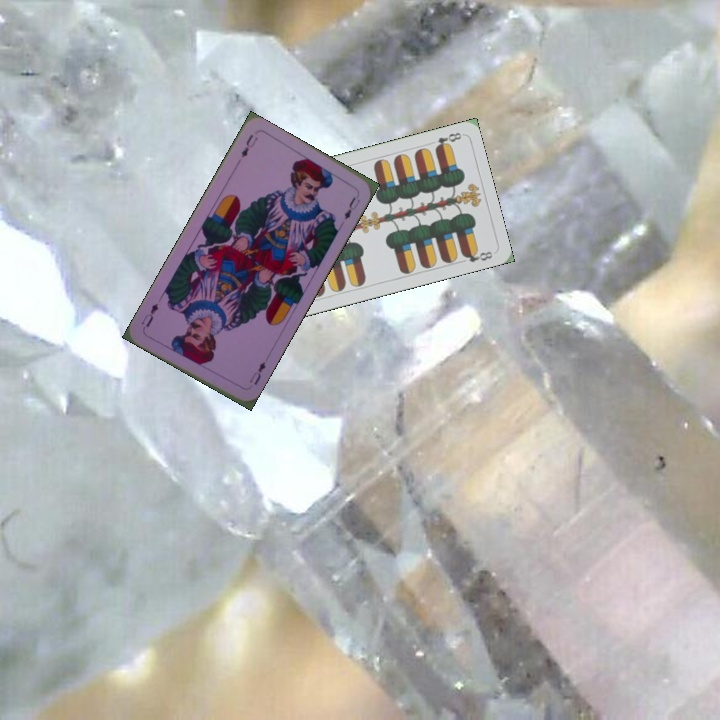E8: (431, 128, 464, 152)
EU: (237, 130, 261, 160), (245, 357, 268, 388)
